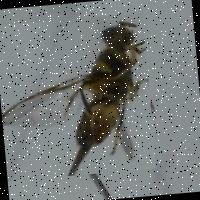Oriental-fruit-fly: (0, 12, 155, 180)
